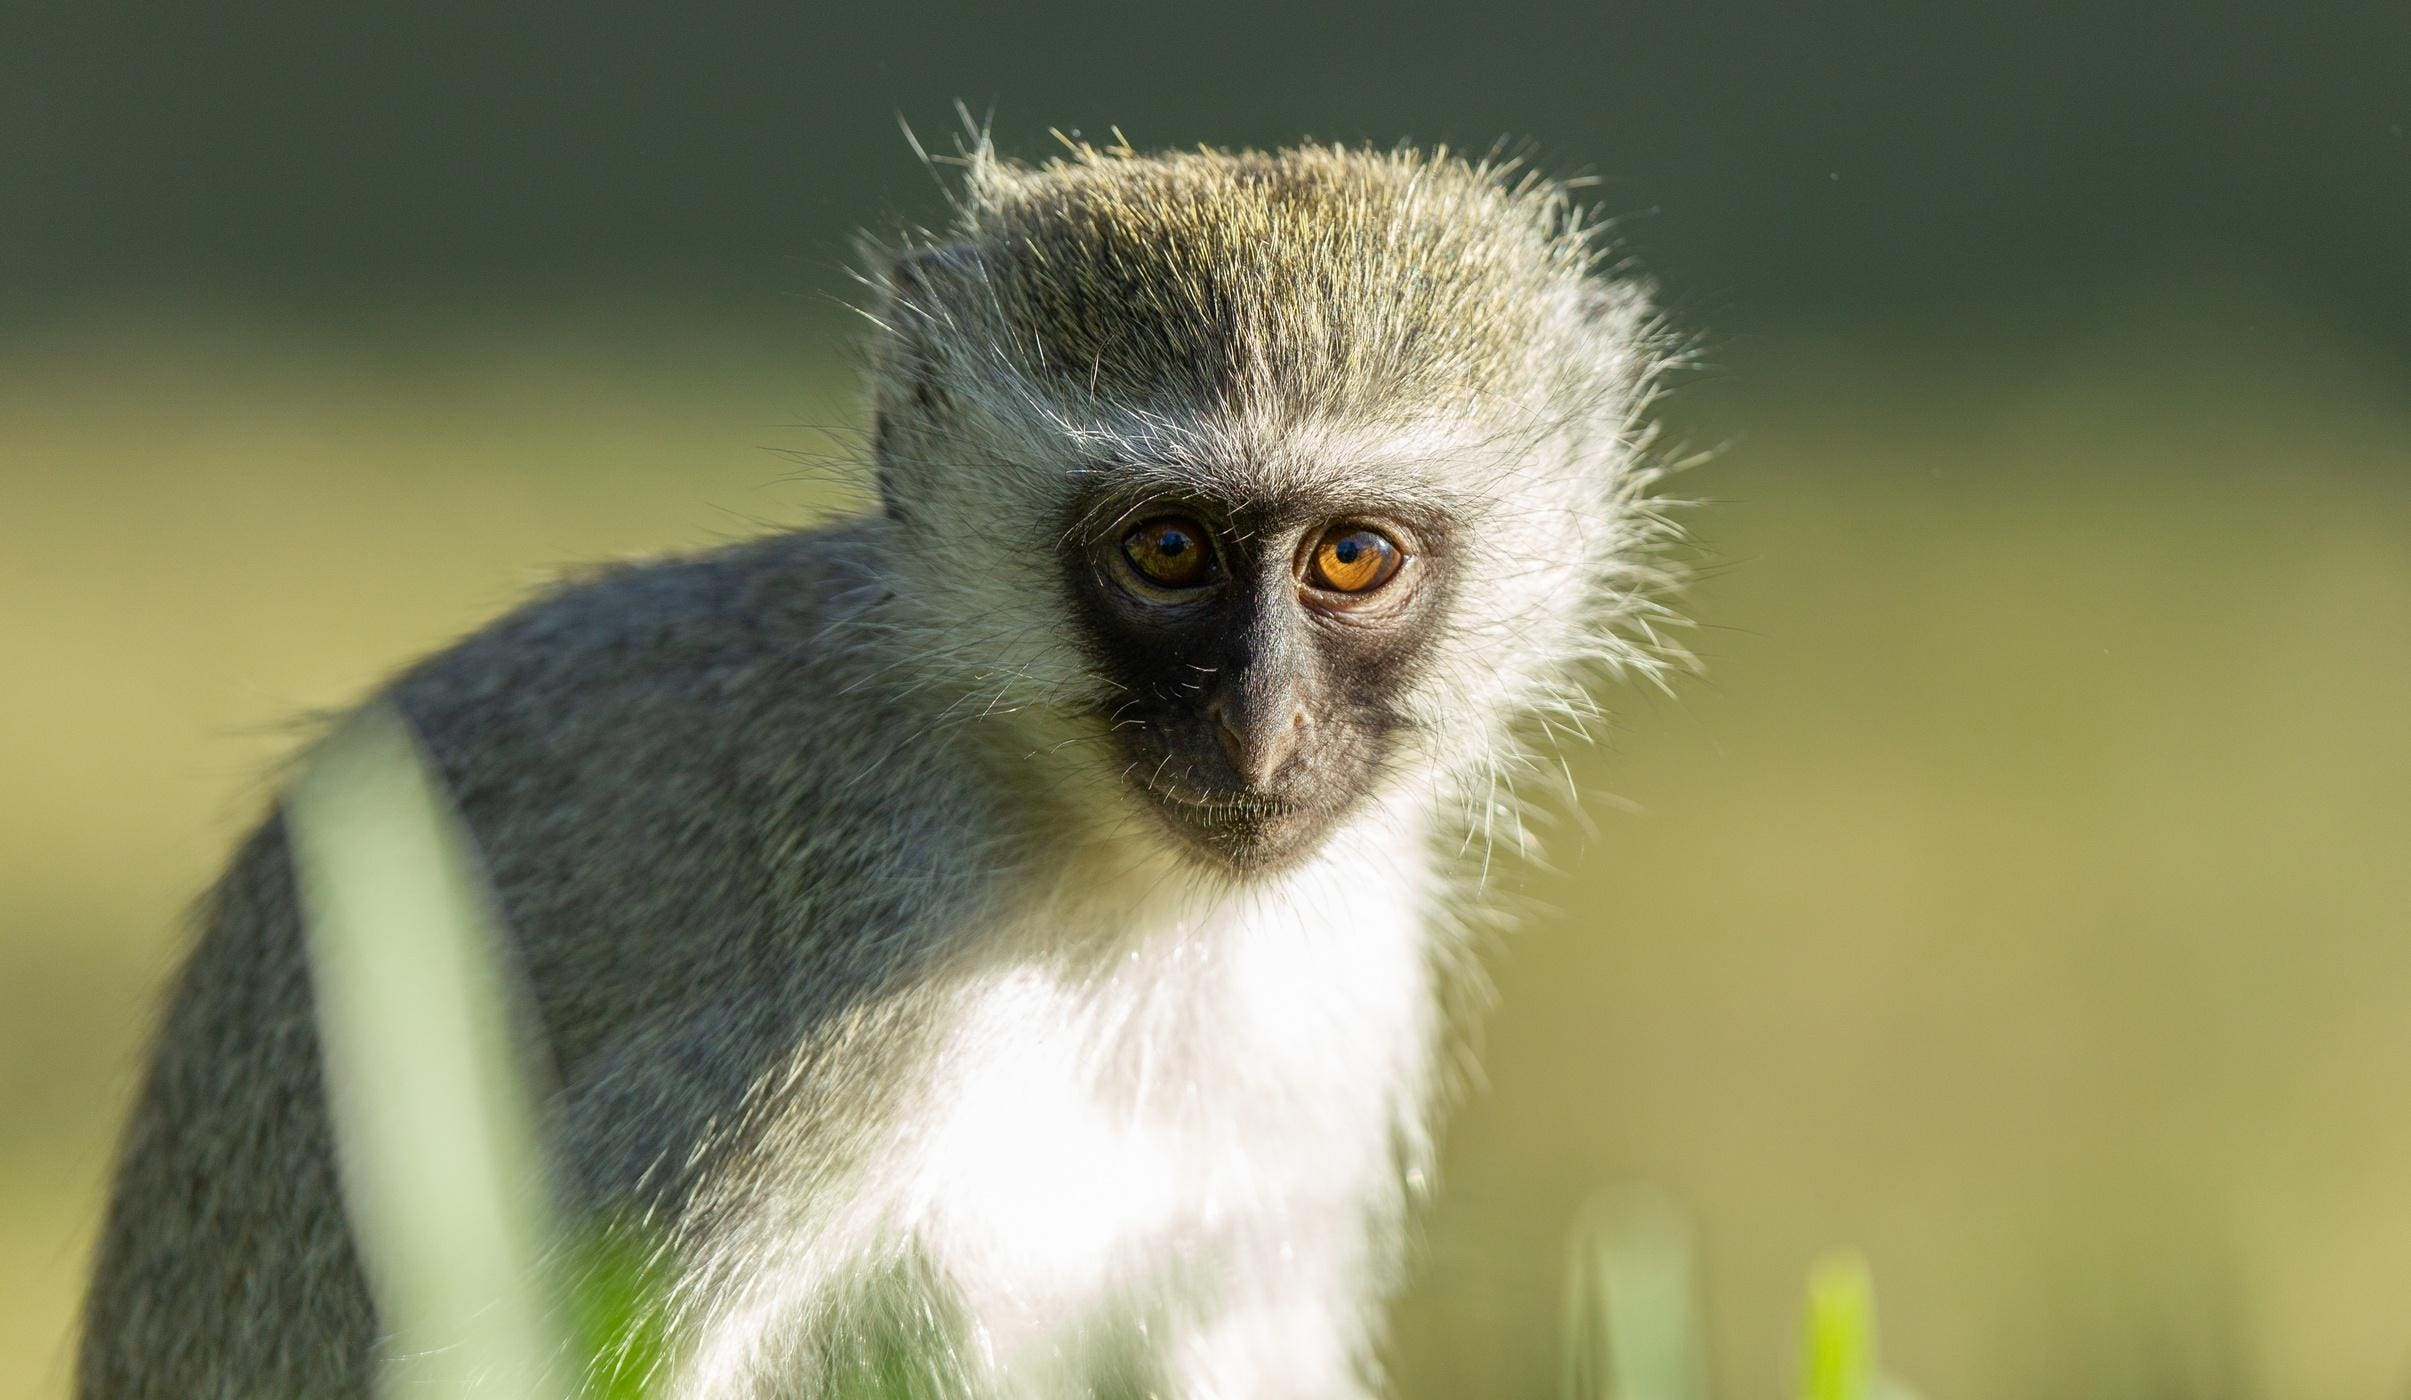monkey_body: (130, 455, 1599, 1400)
monkey_face: (852, 226, 1654, 935)
